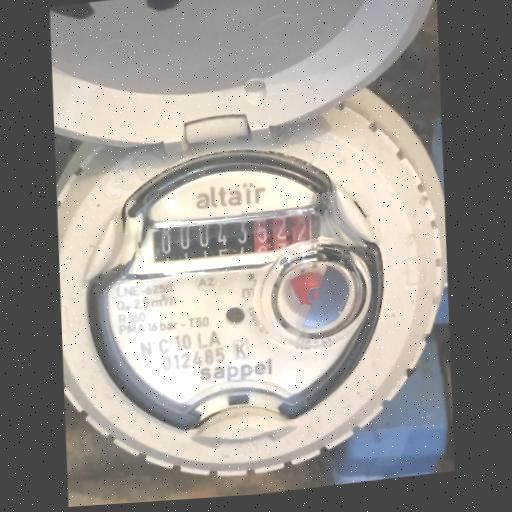0: (193, 222, 217, 259), (156, 225, 178, 263), (174, 224, 196, 260)
2: (272, 216, 295, 251), (291, 213, 311, 244)
3: (232, 219, 254, 255)
4: (212, 221, 236, 258)
5: (252, 218, 274, 253)
border_water_meter_number: (146, 206, 323, 280)
